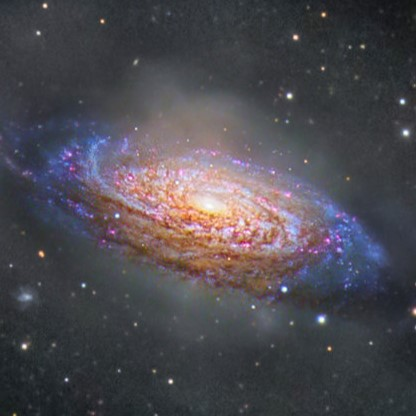NGC 3521: (10, 67, 384, 332)
